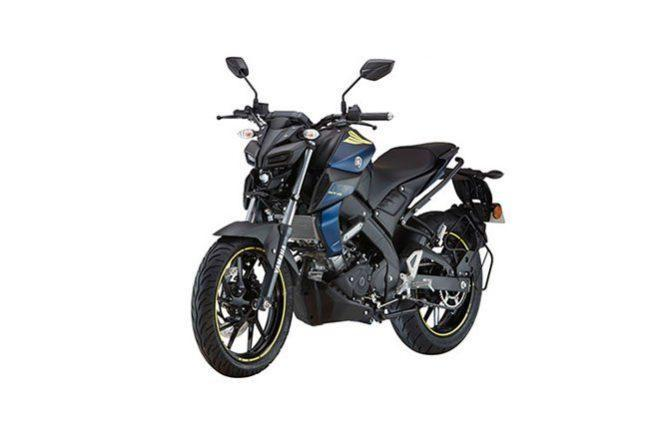motorbike: (190, 59, 508, 378)
